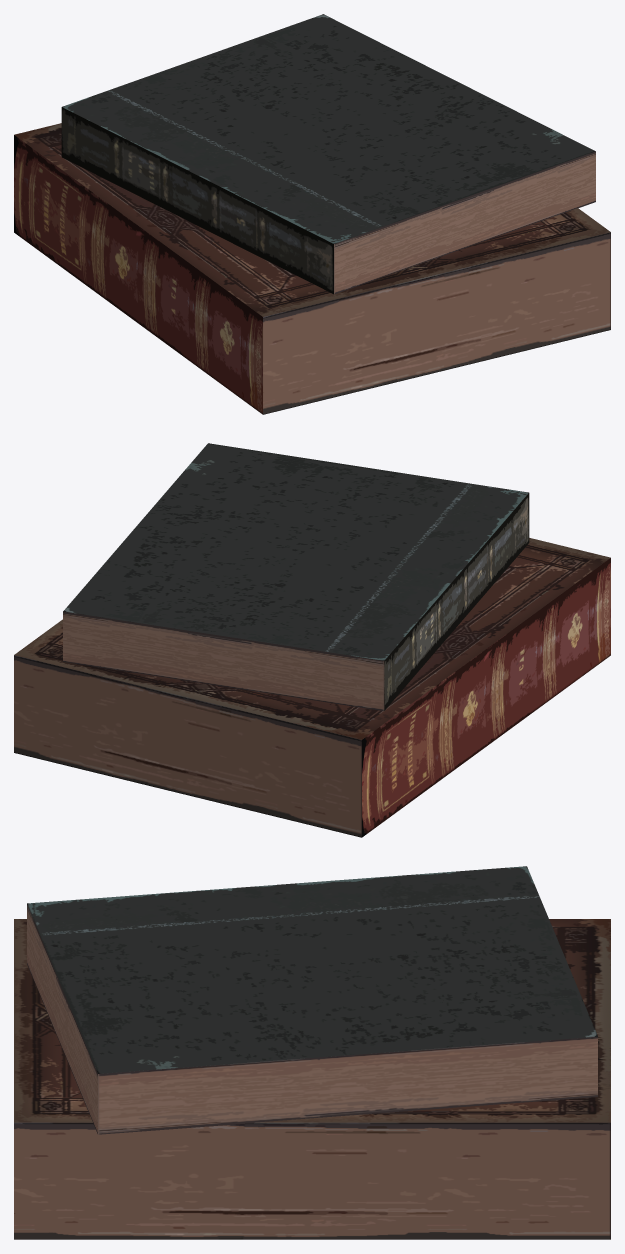
Rendered from bookpile_m1.fbx.
3 renders of one model, top to bottom at view 1: azimuth 30°, elevation 25°; view 2: azimuth 150°, elevation 25°; view 3: azimuth 270°, elevation 25°, orthographic. The views are drawn at different scales.
Visible parts, largest first — view 1: BooksPile; view 2: BooksPile; view 3: BooksPile.
Boxes of the visible parts, left/top/right/bottom form: BooksPile: left=14, top=14, right=610, bottom=414; BooksPile: left=14, top=443, right=610, bottom=837; BooksPile: left=14, top=866, right=610, bottom=1239.
Bounding box in the file's own units: 0.5287 × 0.2034 × 0.62.
